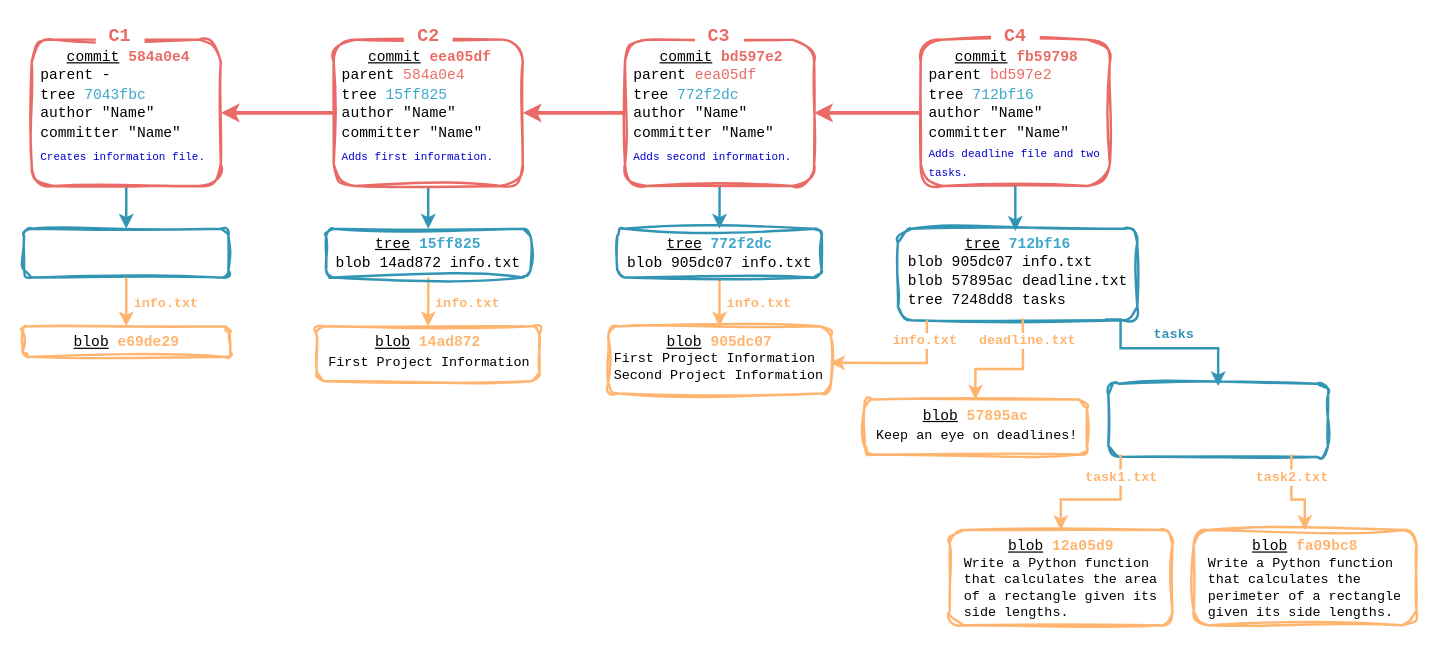
The diagram is 1440 pixels wide and 647 high, and some of its shapes have lost their labels. Here are the shapes that lost their labels. From the top down, the centre of each, then its label:
At point 125,252: "tree 7043fbc blob e69de29 info.txt".
At point 1218,420: "tree 7248dd8 blob 12a05d9 task1.txt blob fa09bc8 task2.txt".
